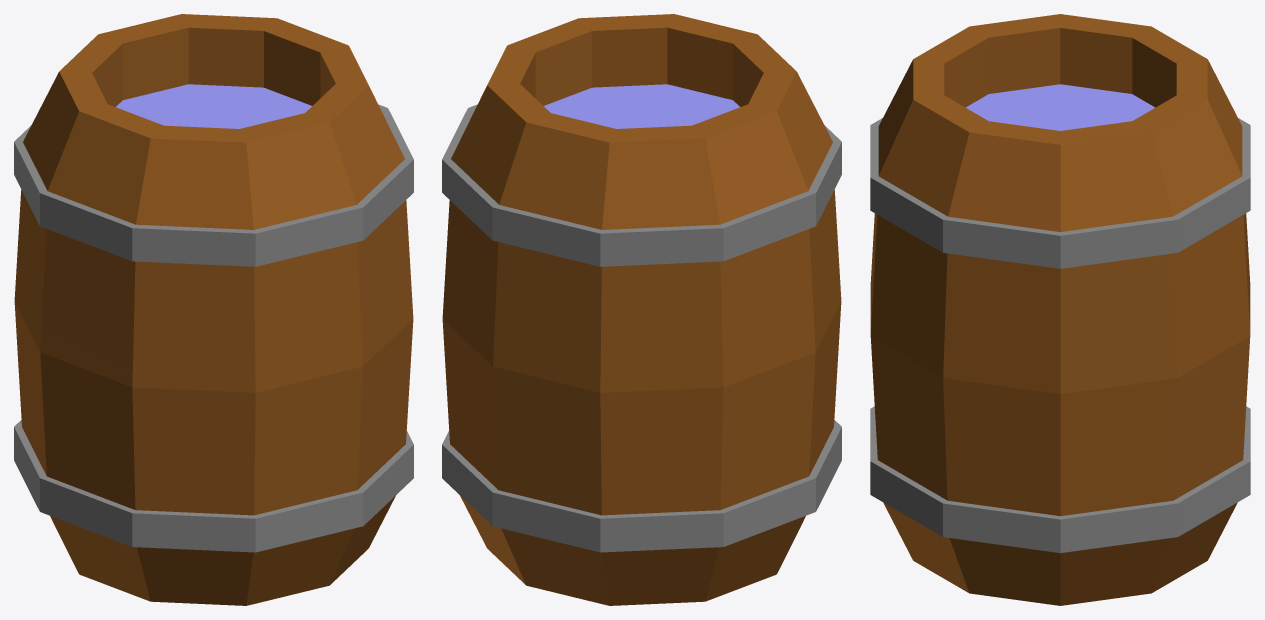
Rendered from Prop_Barrel_Water_01.fbx.
3 views of the same model, side by side, from view 1: azimuth 30°, elevation 25°; view 2: azimuth 150°, elevation 25°; view 3: azimuth 270°, elevation 25° (orthographic).
Visible parts, largest first — view 1: Prop_Barrel_Water_01; view 2: Prop_Barrel_Water_01; view 3: Prop_Barrel_Water_01.
Boxes of the visible parts, x1,y1,x2,y2 form: Prop_Barrel_Water_01: (14, 14, 413, 605); Prop_Barrel_Water_01: (442, 14, 841, 605); Prop_Barrel_Water_01: (870, 14, 1250, 605).
Size of the model in its own units: 739 by 940 by 703.
